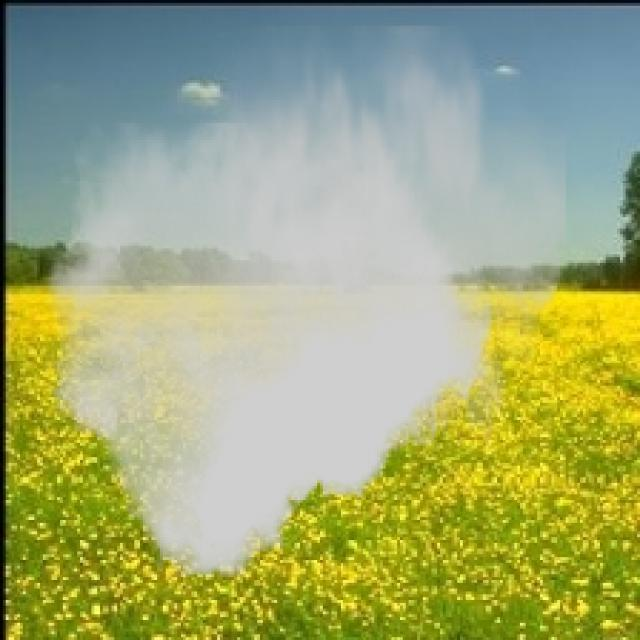smoke: (46, 26, 566, 577)
